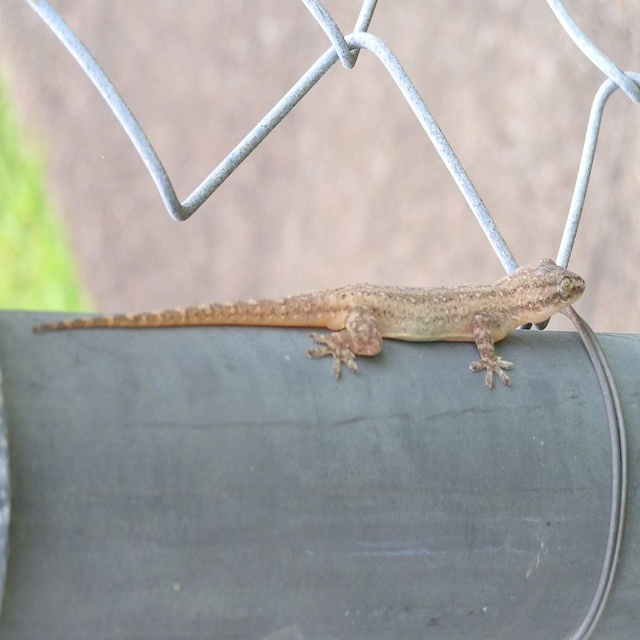Lizard: (44, 219, 623, 398)
